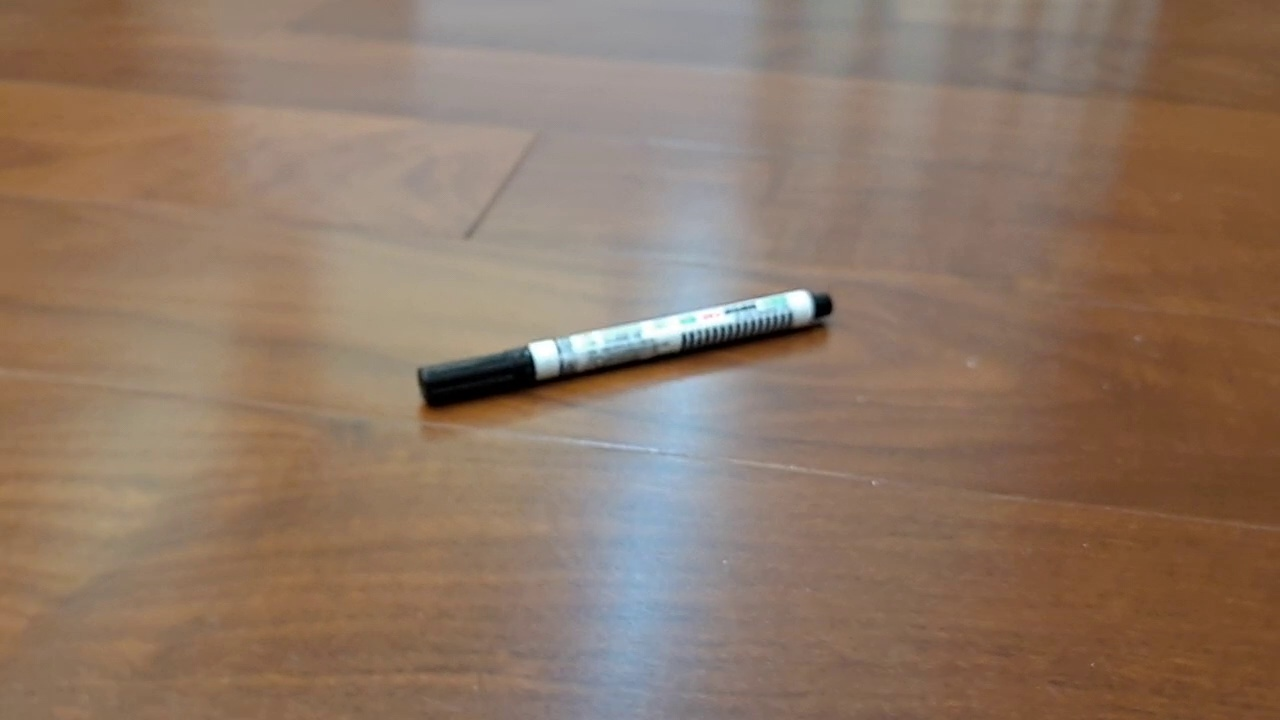pen: (416, 288, 833, 409)
